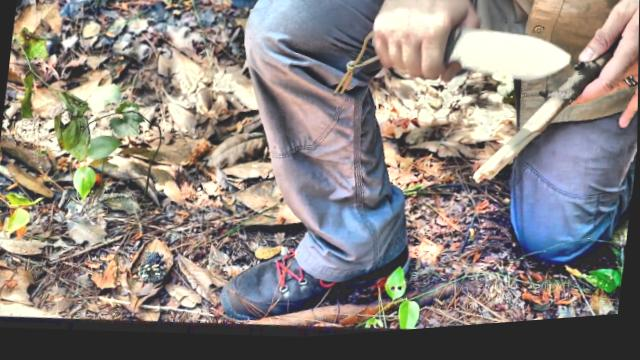knife: (365, 0, 581, 106)
